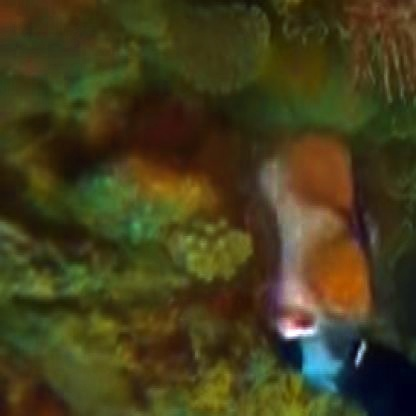plastic: (244, 128, 376, 353)
